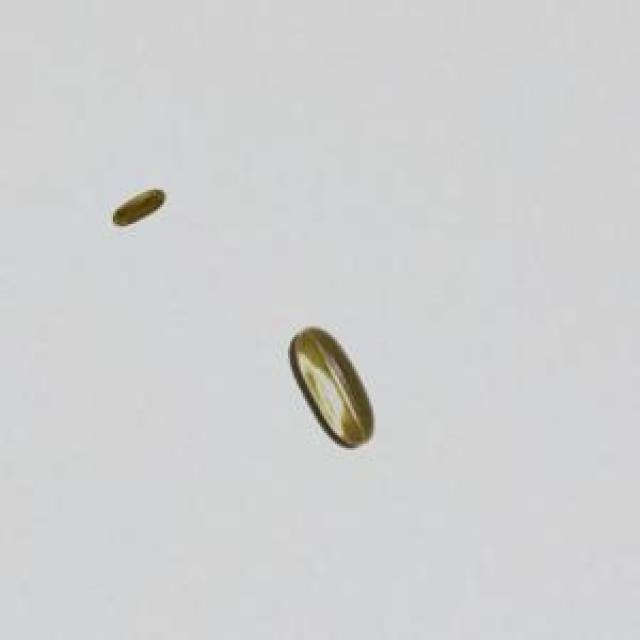Fish_Oil: (277, 320, 384, 460), (103, 173, 176, 253)
